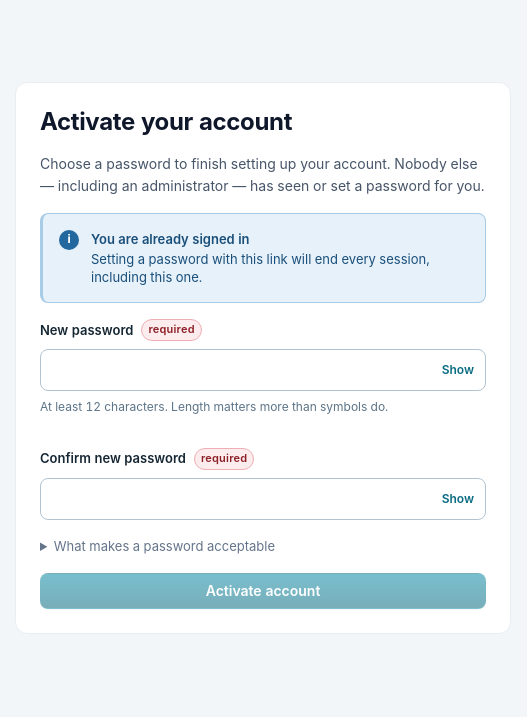
Test: activation through a one-time link › keeps the form usable when the password is rejected, so the link is not spent
This screenshot has width=527, height=717.
In the password field labelled "New password": (263, 370) [40,349,486,391], type "short"
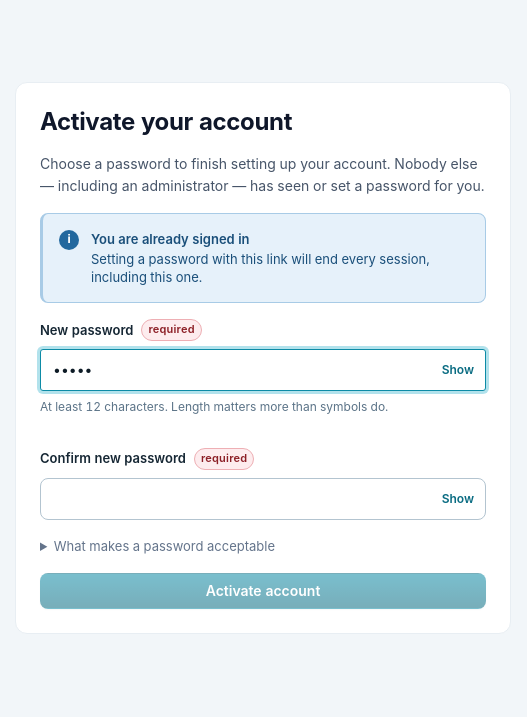
In the password field labelled "Confirm new password": (263, 499) [40,478,486,520], type "short"
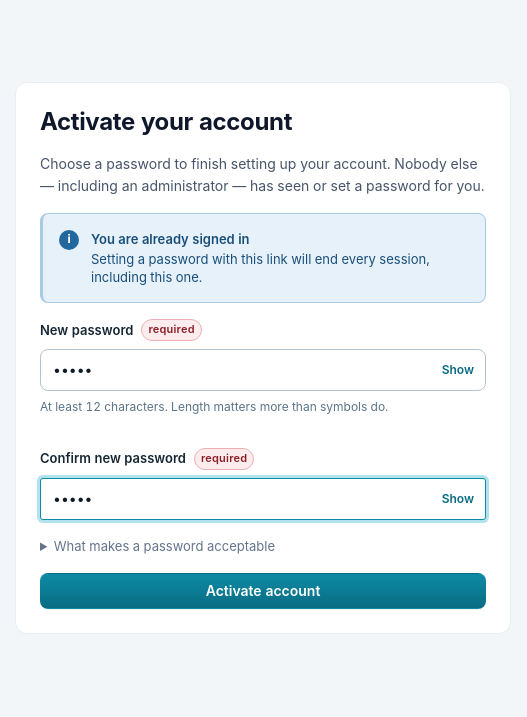
Click the button with test id "submit-password": click(263, 591) [40,573,486,609]
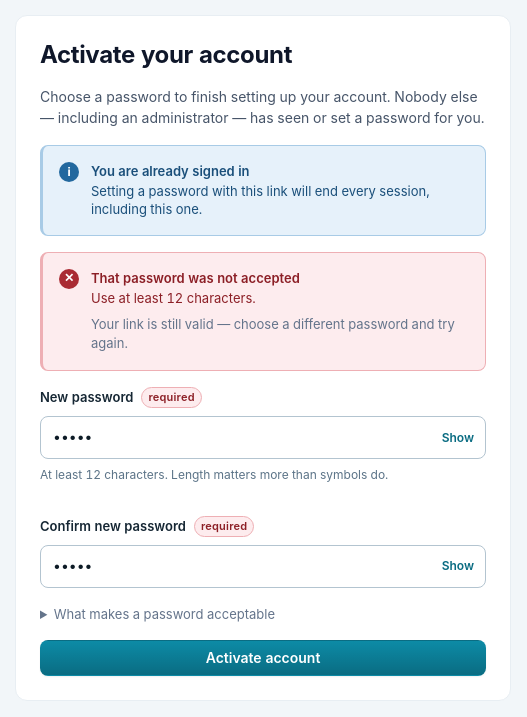
Expected: the button with test id "submit-password" is shown, [40,640,486,676]
Result: the element with test id "password-rejected" is shown at [40,252,486,371]
Result: the element with test id "password-rejected" shows "link is still valid" at [91,316,455,351]
